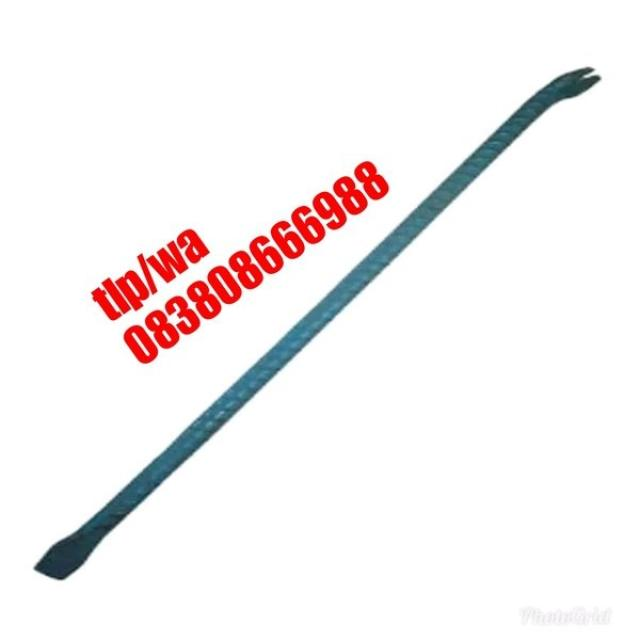Linggis: (33, 67, 603, 585)
